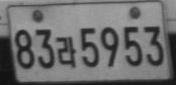3: (143, 24, 164, 66), (34, 28, 55, 69)
5: (122, 25, 143, 66), (79, 27, 99, 68)
8: (14, 28, 34, 69)
9: (100, 26, 119, 67)
라: (56, 36, 76, 68)
